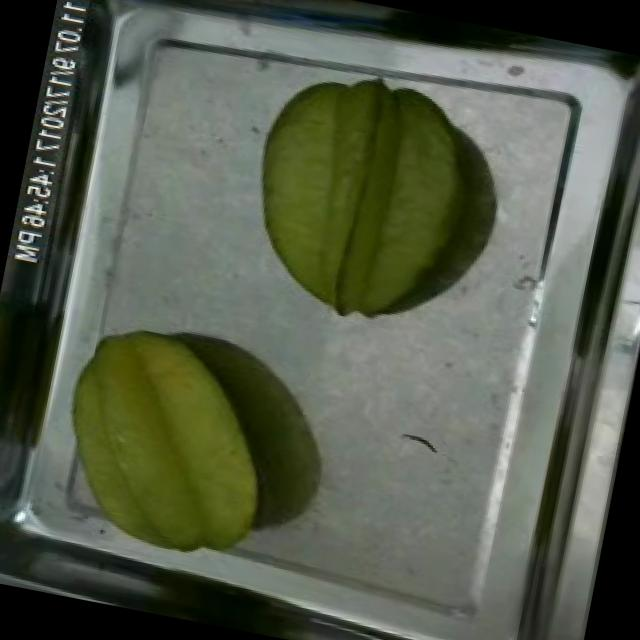fruit: (227, 53, 512, 352), (36, 304, 304, 579)
